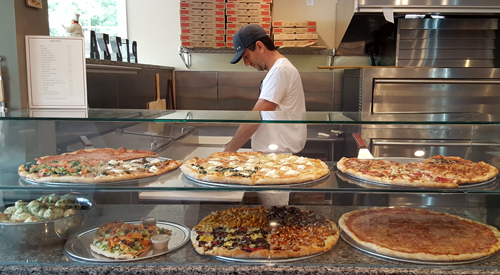Pizza: (337, 206, 500, 263), (189, 205, 340, 259), (336, 154, 500, 191), (15, 146, 182, 182), (181, 150, 330, 187), (89, 219, 173, 260)
